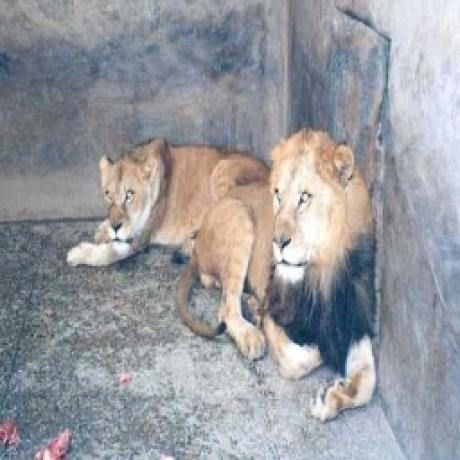Lion: (172, 123, 381, 424), (66, 139, 267, 272)
